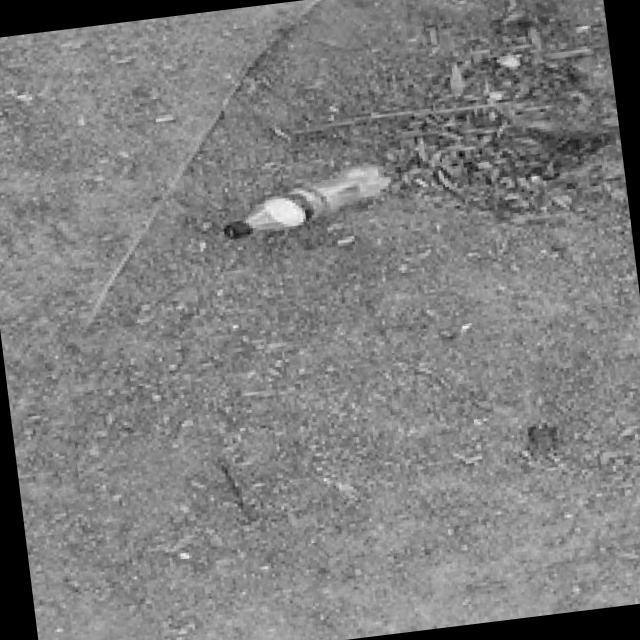good: (215, 158, 398, 250)
